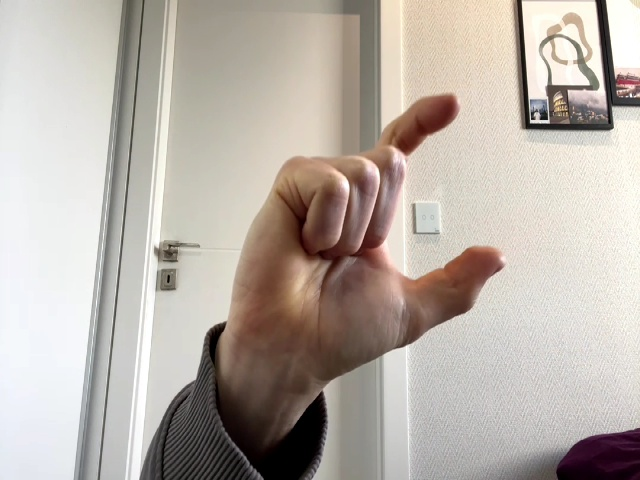C: (227, 93, 505, 385)
